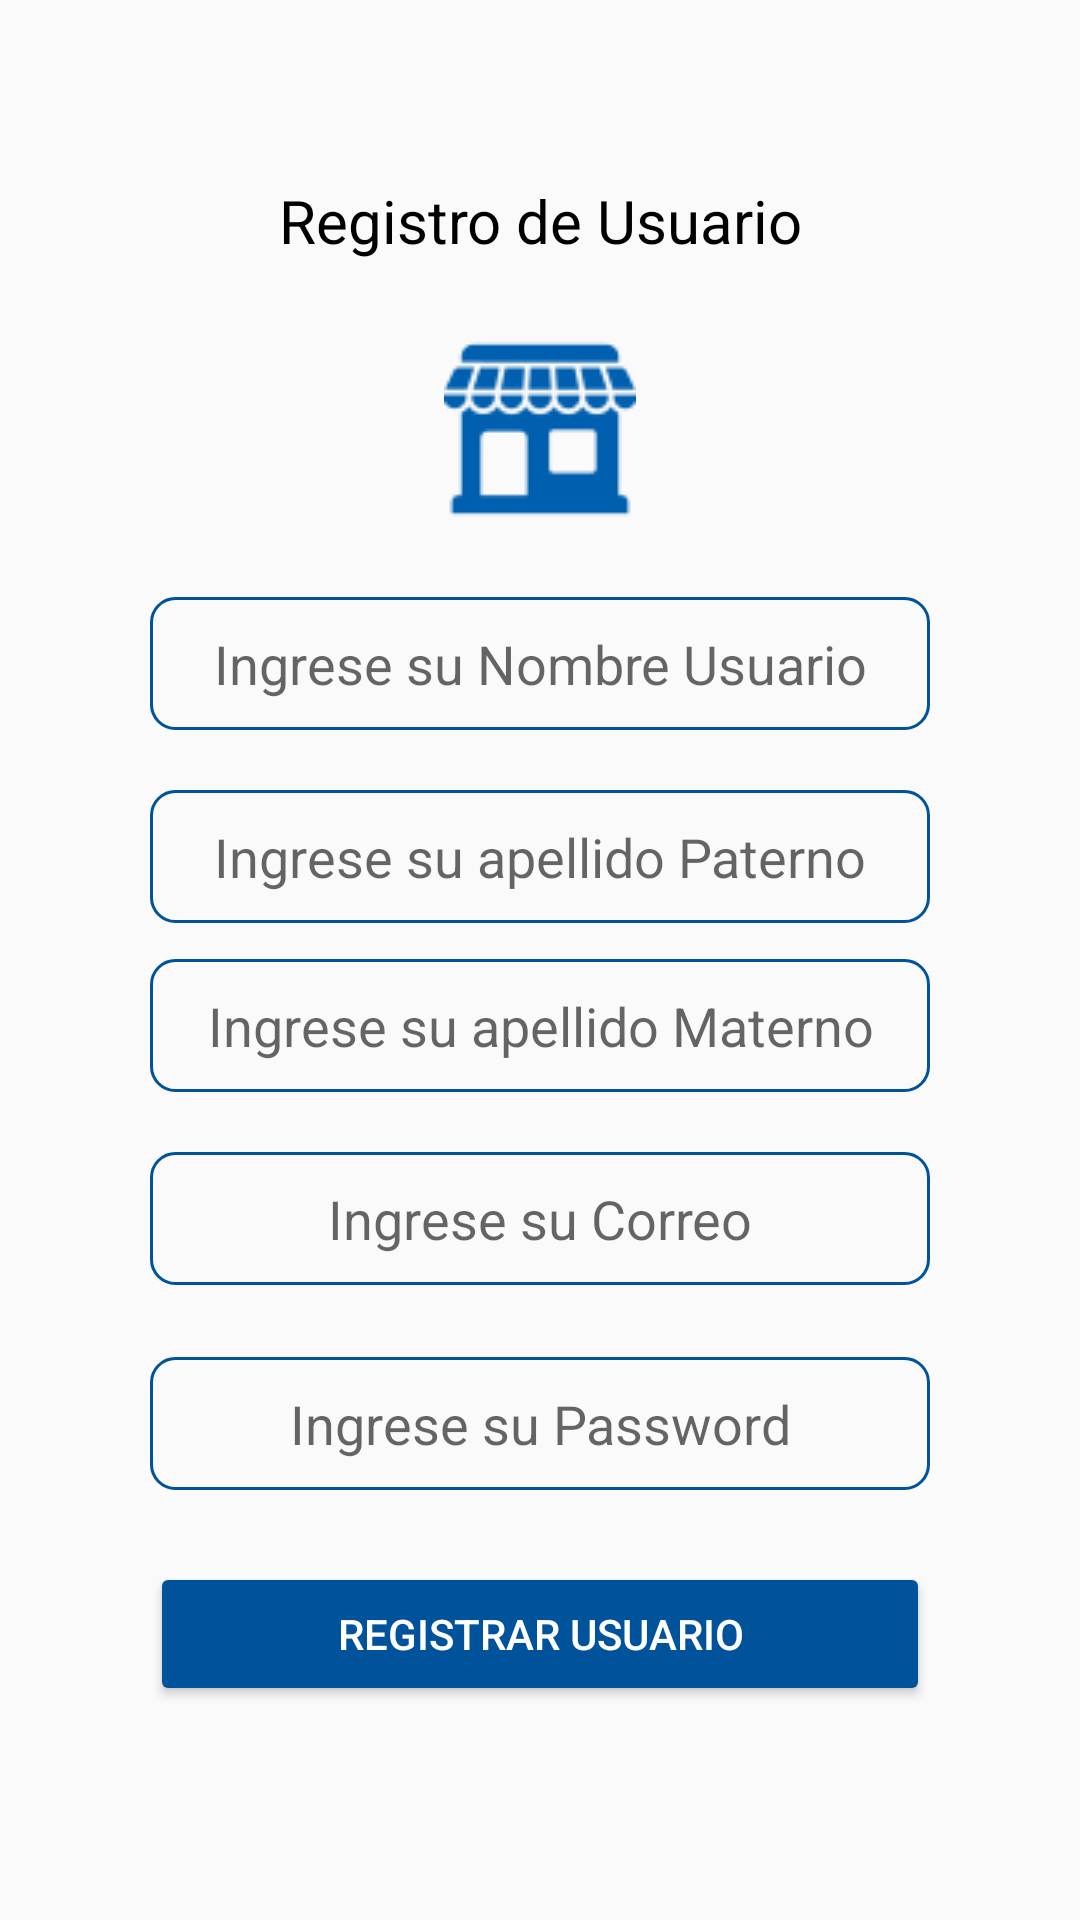

Icons on this 1080px×1920px Android screen, each with the point to tap as [x,y]:
store: [540,429]
